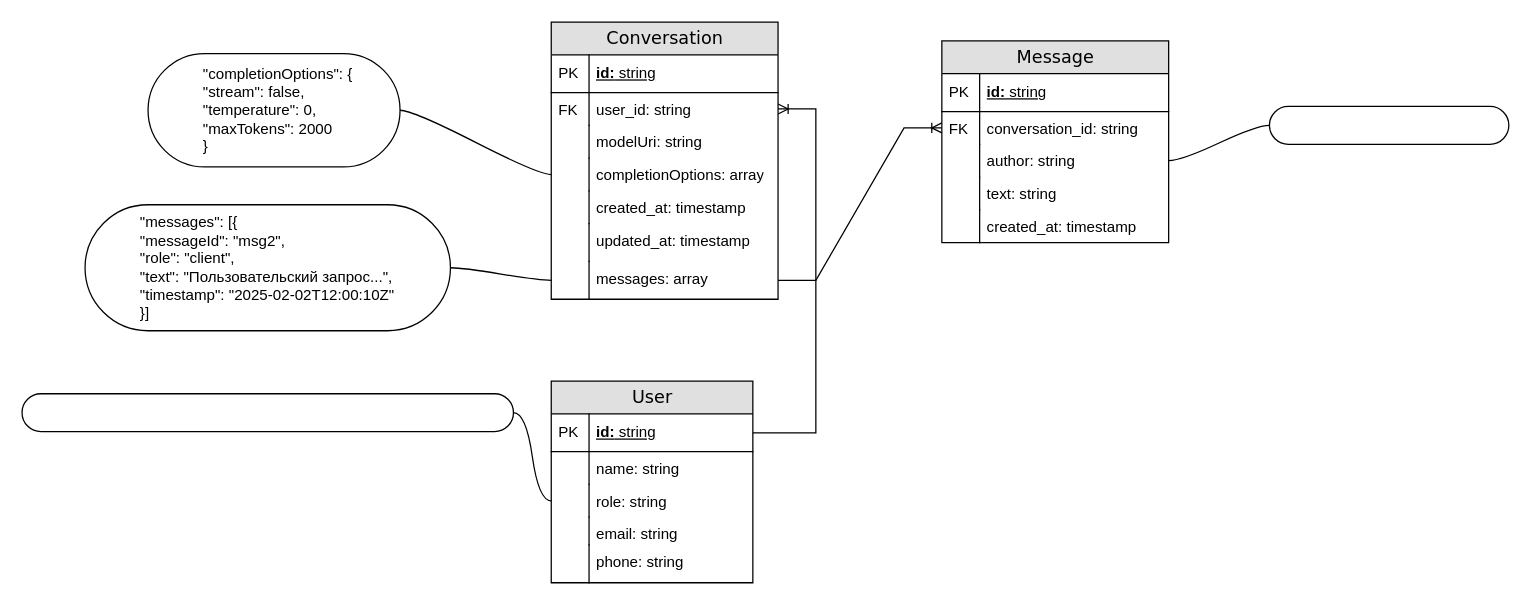
This 1531x609 diagram has some shape labels left out. The centre of each missing label's shape, as x and y in pixels:
Enum ["Junior manager", " The God of Sales ", "Regular Manager "]: (267,412)
Enum ["Manager", "Client"]: (1388,124)
